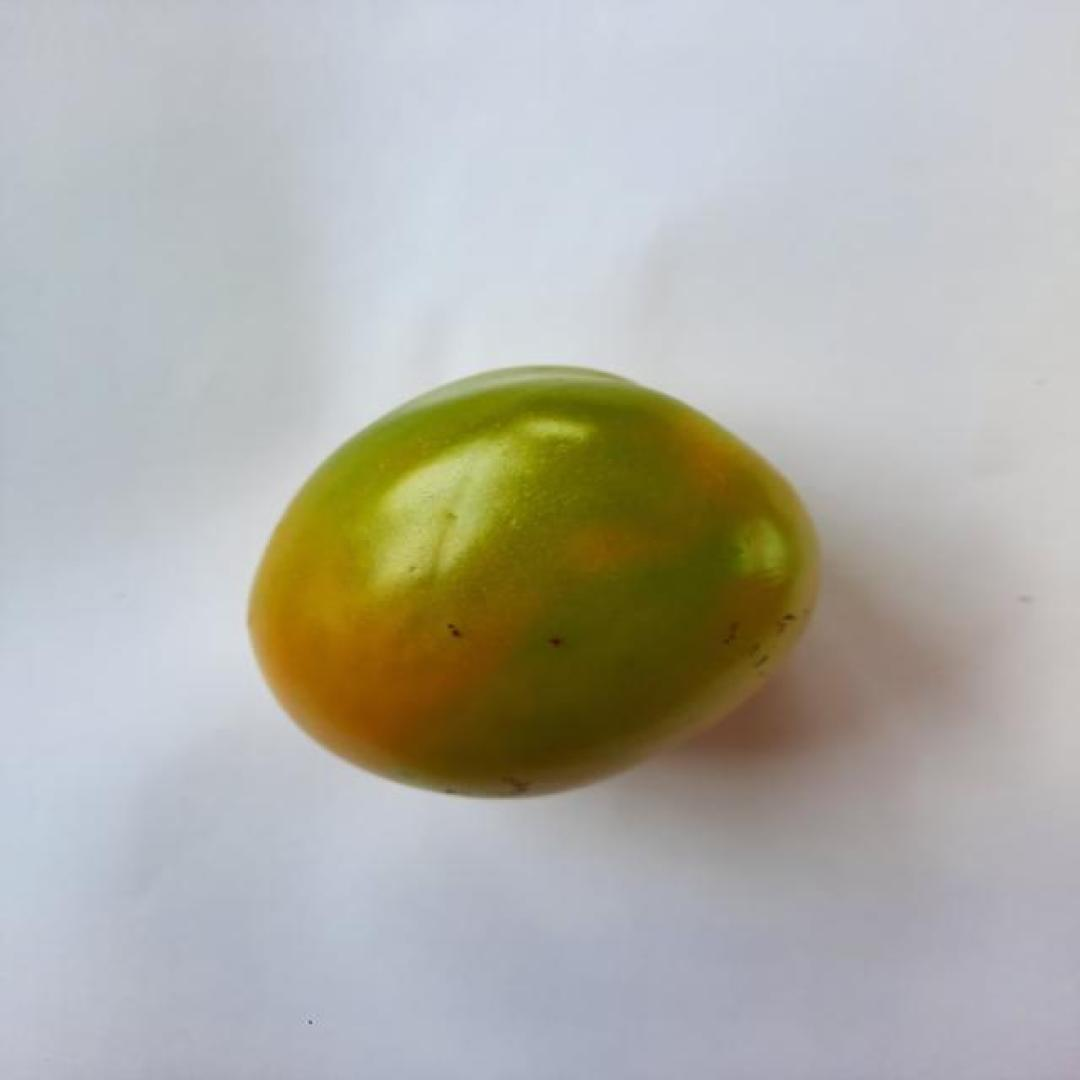setengah_matang: (240, 356, 825, 807)
